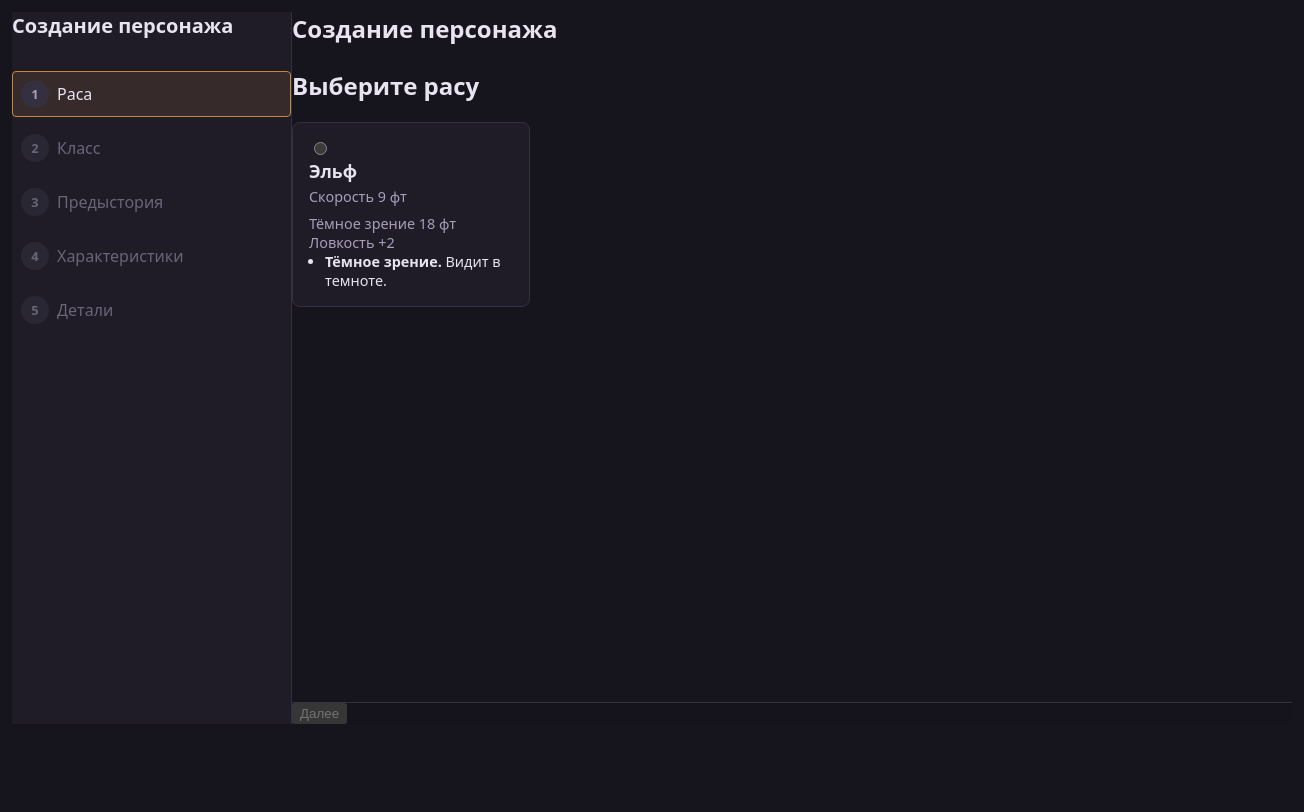
Test: CharacterWizardPage › advances race -> class -> background -> abilities, accumulating the selection
Click the radio button.
click(320, 148)  # box [314,142,327,155]
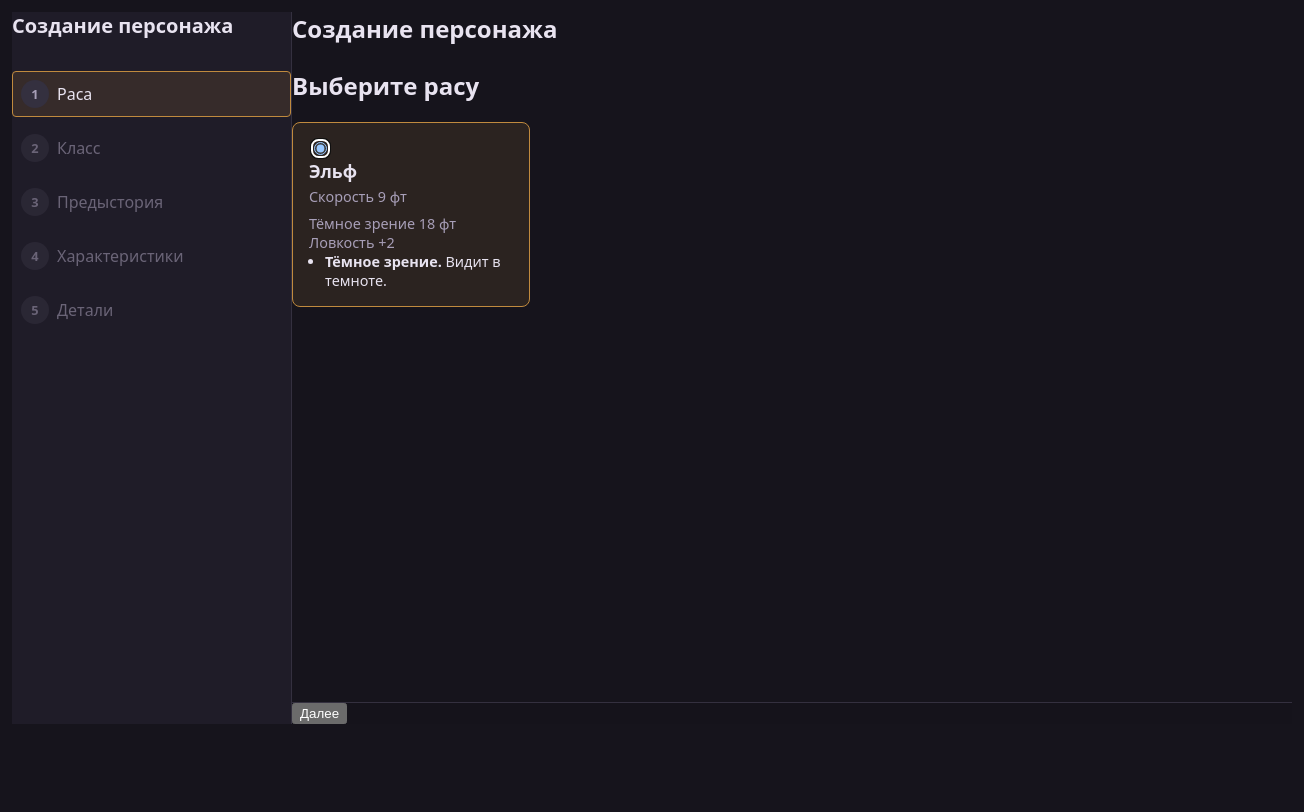
Click the button "Далее".
click(320, 714)  # box [292,703,347,724]
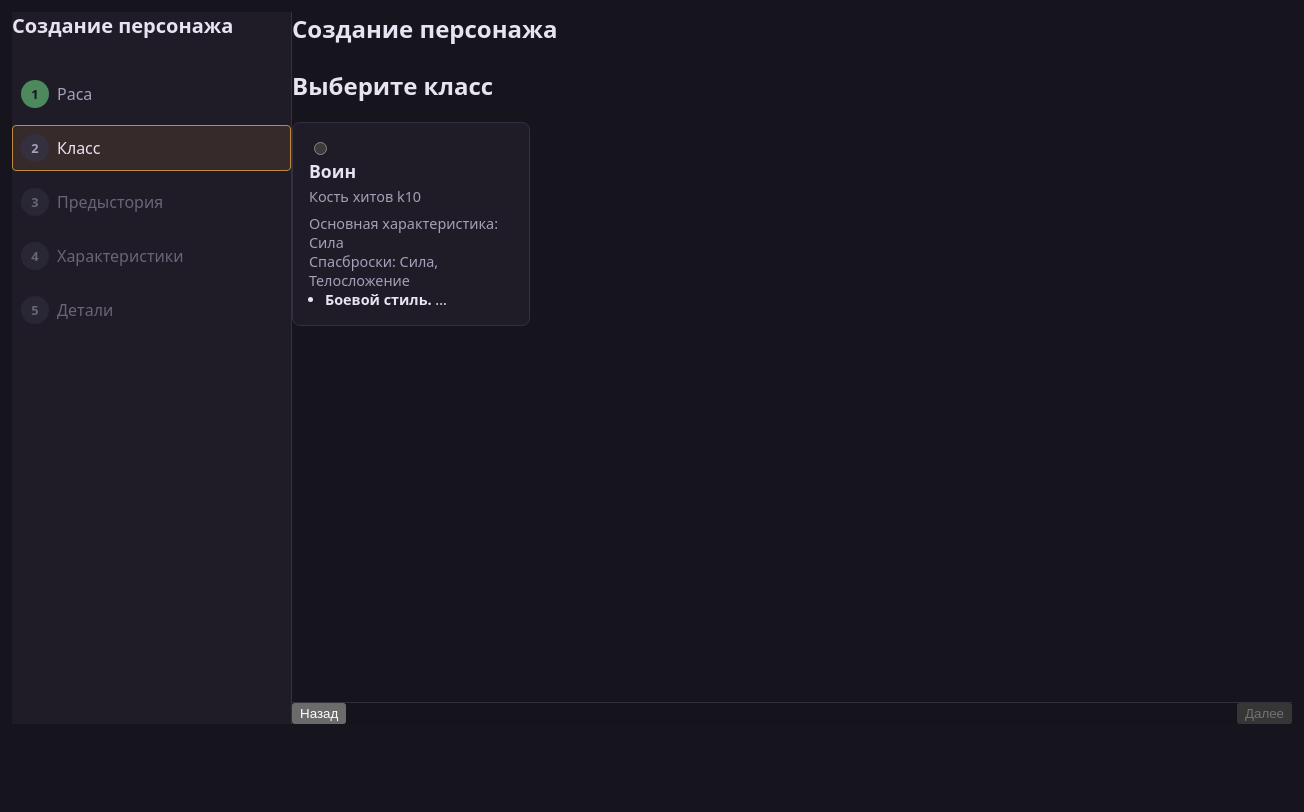
expect the heading "Выберите класс" is shown: met, box [292,69,493,102]
expect the button "Далее" is disabled: met, box [1237,703,1292,724]
expect the radio button is shown: met
Click the radio button.
click(320, 148)  # box [314,142,327,155]
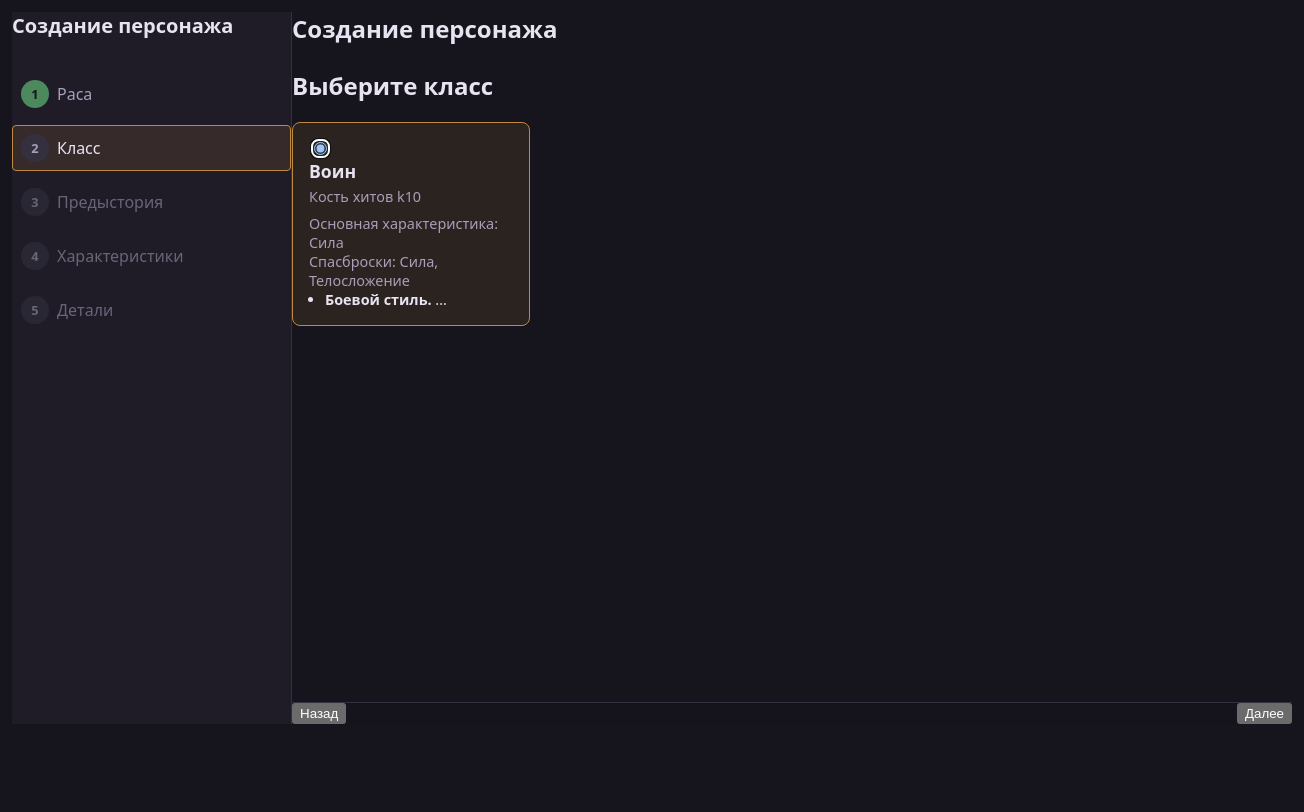
Click the button "Далее".
click(1264, 714)  # box [1237,703,1292,724]
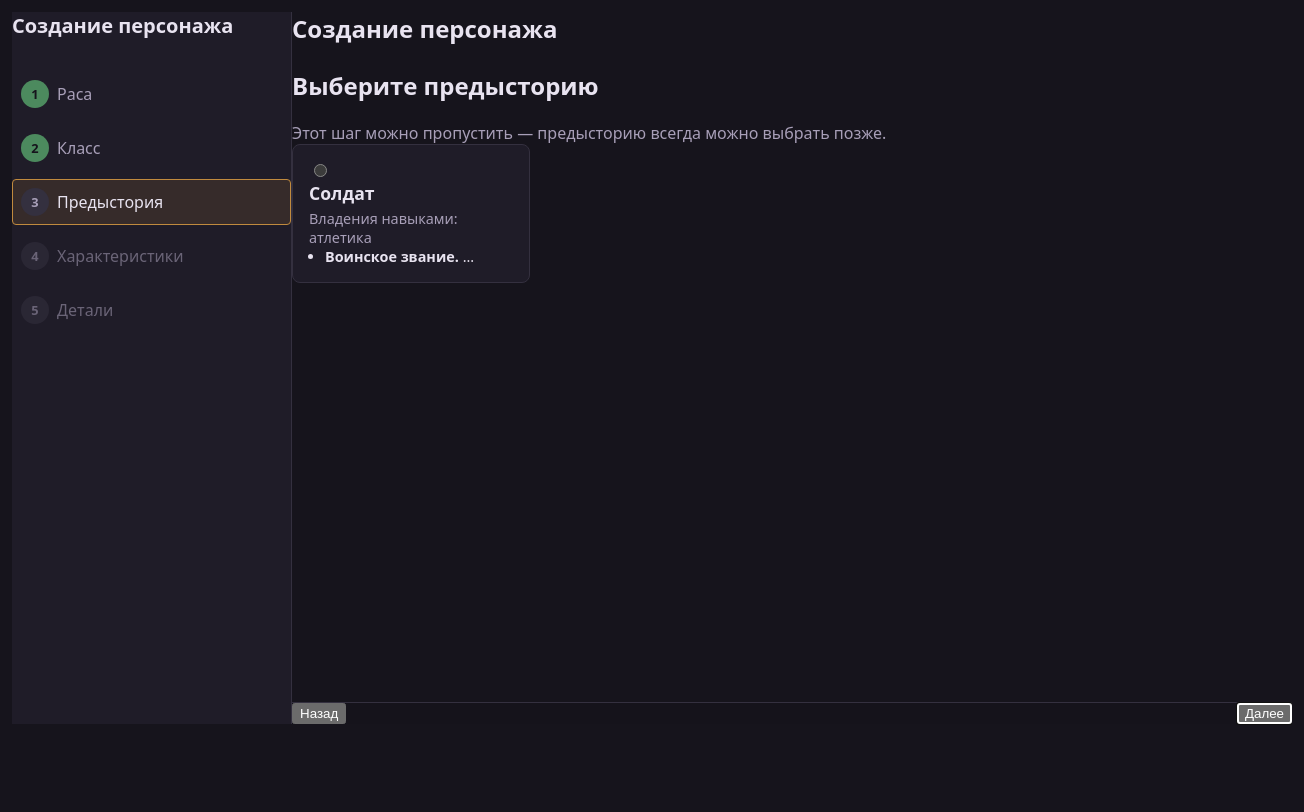
expect the button "Далее" is enabled: met
expect the heading "Выберите предысторию" is shown: met, box [292,69,599,102]
Click the button "Далее".
click(1264, 714)  # box [1237,703,1292,724]
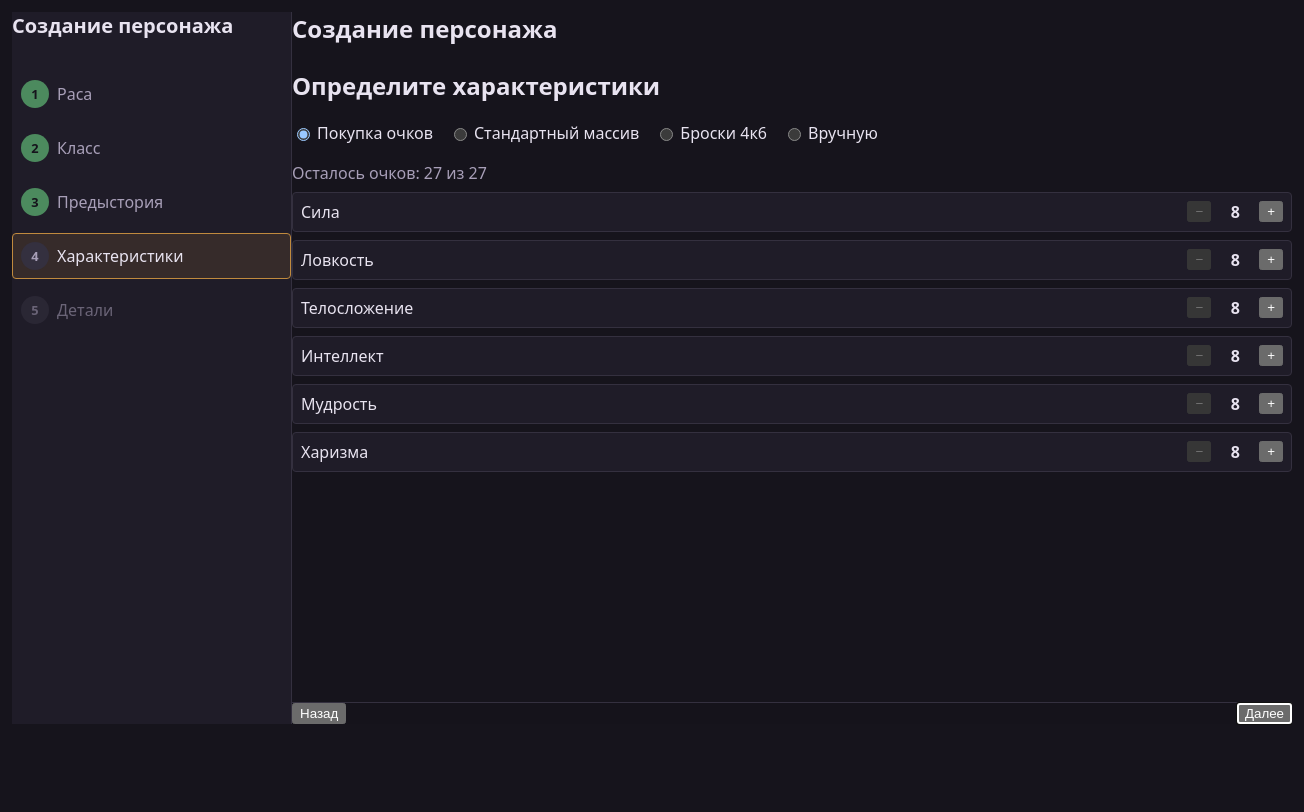
expect the heading "Определите характеристики" is shown: met, box [292,69,660,102]
